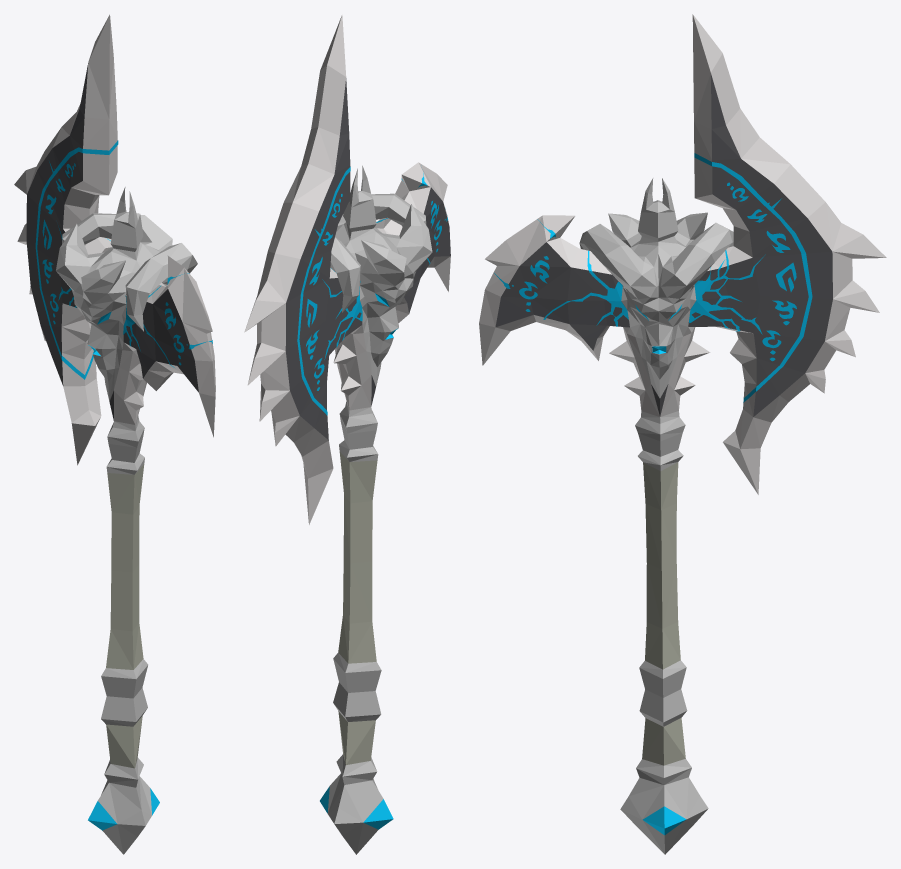
The model's file is magic_axe.obj.
3 renders of one model, left to right at view 1: azimuth 30°, elevation 25°; view 2: azimuth 150°, elevation 25°; view 3: azimuth 270°, elevation 25°, orthographic. The views are drawn at different scales.
Parts seen in each view (by area): view 1: magic_axe; view 2: magic_axe; view 3: magic_axe.
Boxes of the visible parts, x1,y1,x2,y2 form: magic_axe: (14,14,215,854); magic_axe: (244,15,450,854); magic_axe: (479,14,886,854).
Bounding box in the file's own units: 0.4224 × 2.93 × 1.29.
